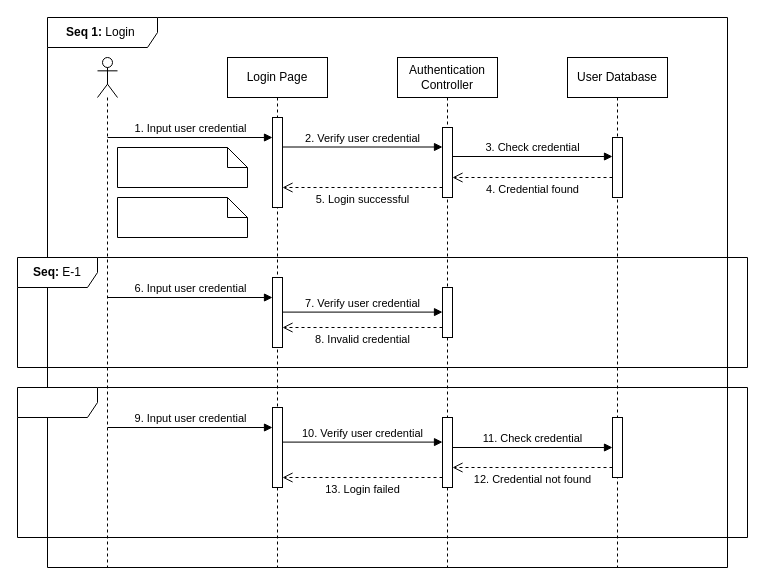
Image size: 765x585. Some labels were removed from this diagram. Here are the shapes that lost their labels. From the top down, the centre of each, then its label:
point (182, 167): E-1: Invalid credential
point (182, 217): E-2: C redential not found
point (382, 462): Seq: E-2
